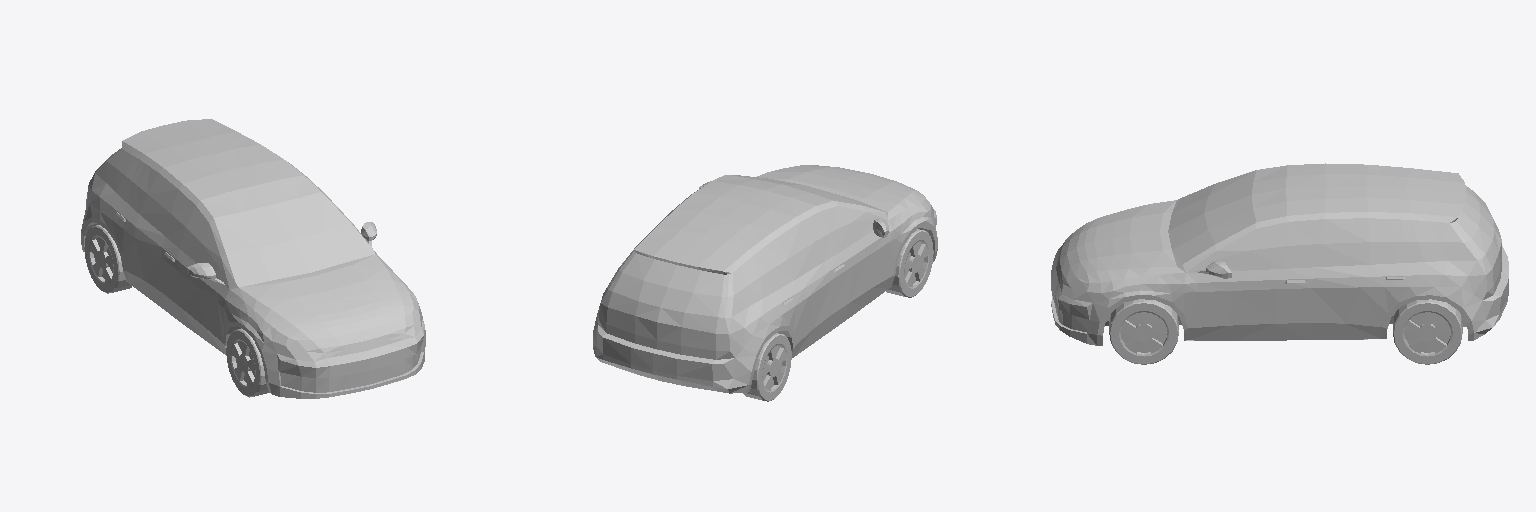
The model's file is car-golf.obj.
The picture shows the model from 3 angles: view 1: azimuth 30°, elevation 25°; view 2: azimuth 150°, elevation 25°; view 3: azimuth 270°, elevation 25°; orthographic projection.
Visible parts, largest first — view 1: car_golf2:pPlane11; view 2: car_golf2:pPlane11; view 3: car_golf2:pPlane11.
Boxes of the visible parts, x1,y1,x2,y2 form: car_golf2:pPlane11: [81, 119, 425, 398]; car_golf2:pPlane11: [593, 165, 937, 401]; car_golf2:pPlane11: [1051, 163, 1508, 364].
Size of the model in its own units: 2.01 by 1.44 by 4.29.